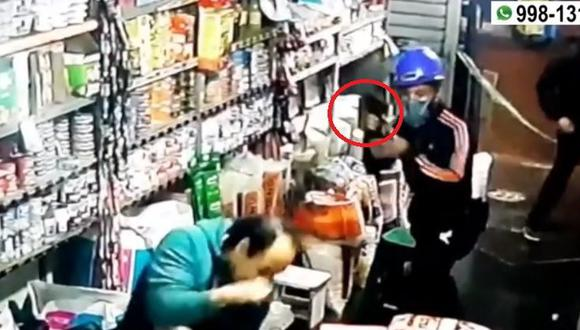Arma: (357, 91, 391, 131)
